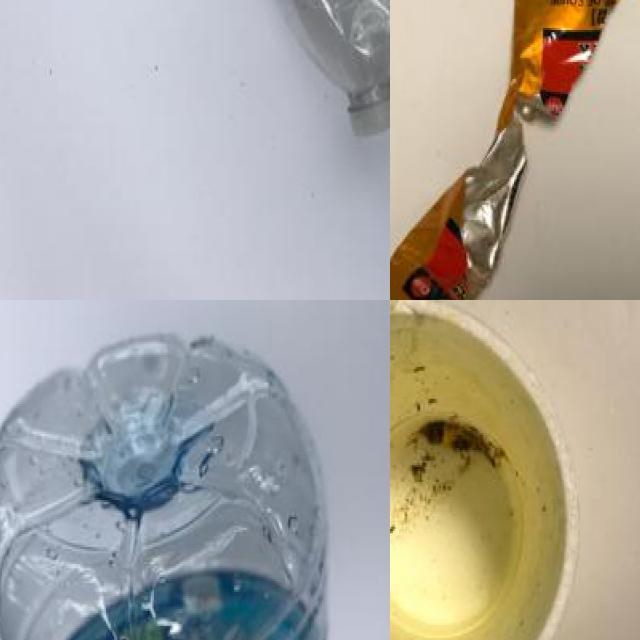plastic: (0, 321, 342, 640), (189, 0, 390, 147)
trash: (390, 0, 640, 300), (390, 300, 589, 640)
